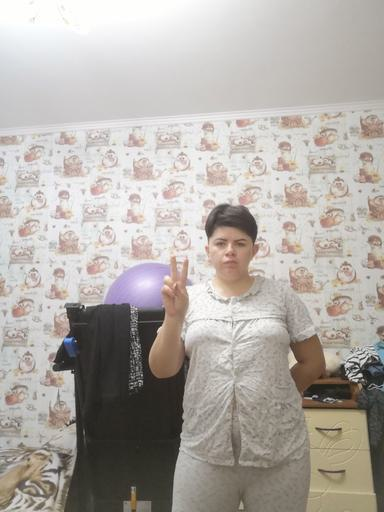peace: (159, 253, 192, 319)
